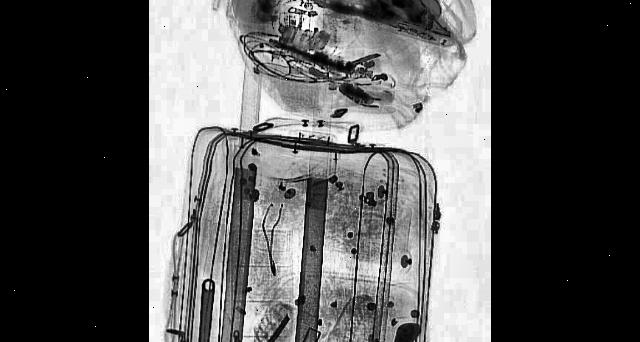Wrench: (333, 306, 425, 342), (192, 273, 221, 342)
